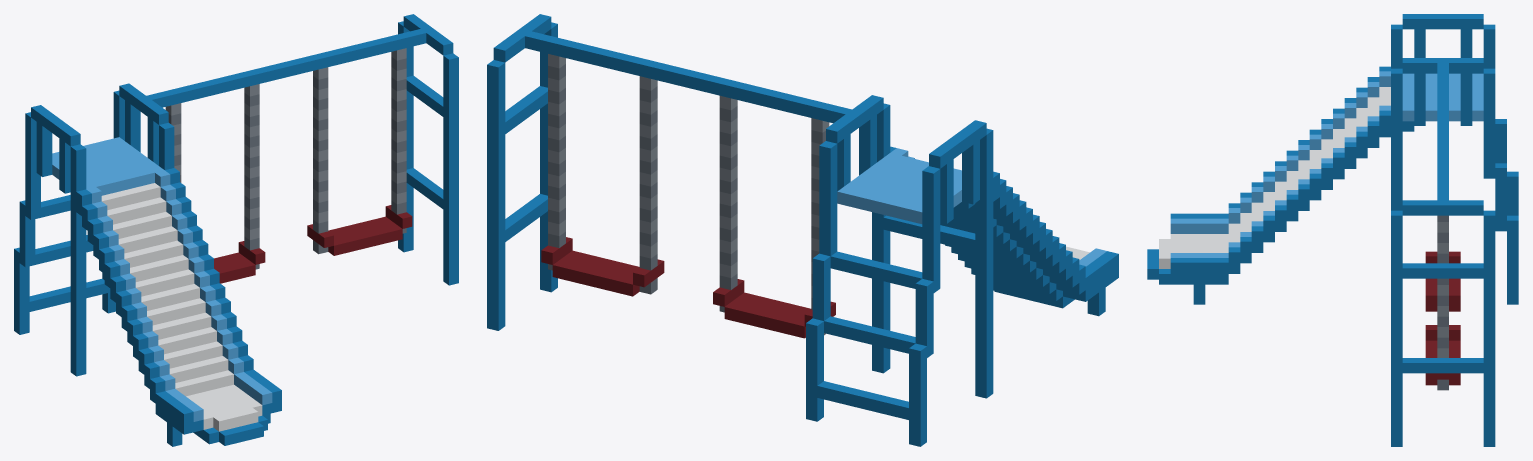
The model's file is Playground_Set-17.obj.
The picture shows the model from 3 angles, left to right: view 1: azimuth 30°, elevation 25°; view 2: azimuth 150°, elevation 25°; view 3: azimuth 270°, elevation 25°; orthographic projection. The views are drawn at different scales.
Size of the model in its own units: 3.9 by 2.3 by 3.2.
Materials: 1 (1 with a texture image).
